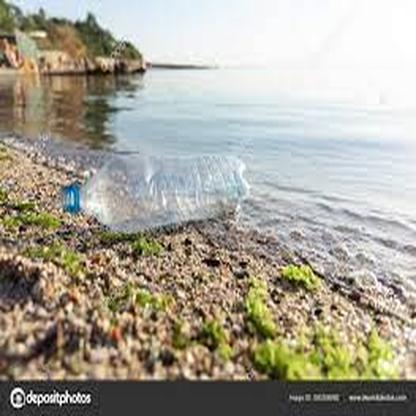plastic bottle: (64, 152, 249, 235)
